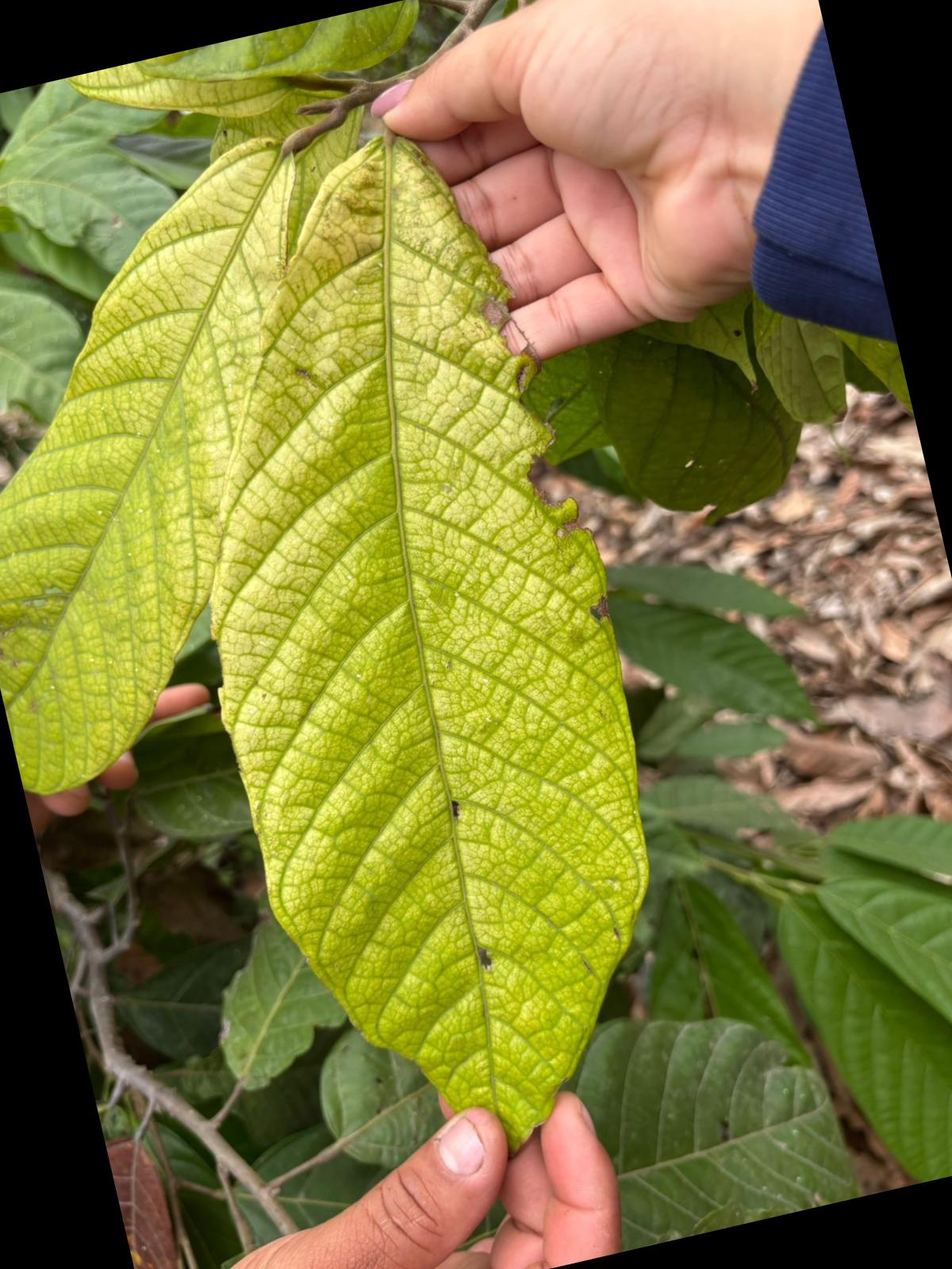Nitrogeno: (212, 141, 647, 1146), (0, 139, 294, 793)
